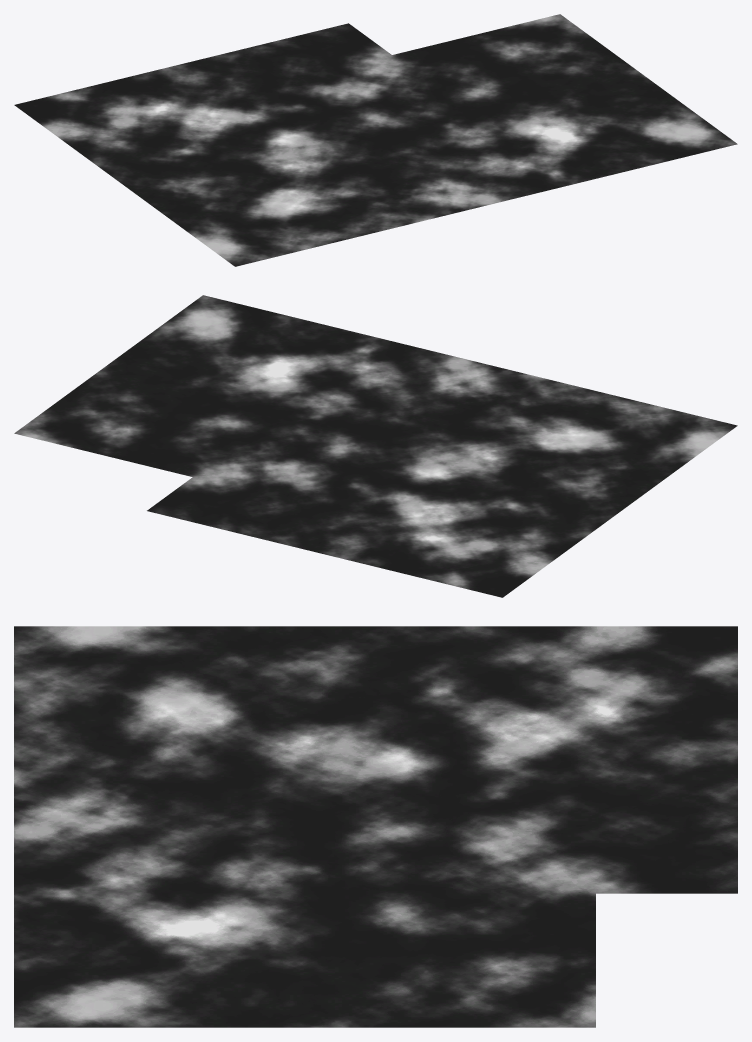
File: WATER.fbx
3 views of the same model, one above another, from view 1: azimuth 30°, elevation 25°; view 2: azimuth 150°, elevation 25°; view 3: azimuth 270°, elevation 25° (orthographic). The views are drawn at different scales.
Parts seen in each view (by area): view 1: MeshBaker_mesh_mesh; view 2: MeshBaker_mesh_mesh; view 3: MeshBaker_mesh_mesh.
Boxes of the visible parts, <box> form: MeshBaker_mesh_mesh: <box>14,14,737,266</box>; MeshBaker_mesh_mesh: <box>14,295,737,597</box>; MeshBaker_mesh_mesh: <box>14,626,737,1027</box>.
Bounding box in the file's own units: 10696 × 0 × 8150.
Materials: 1 (1 with a texture image).
